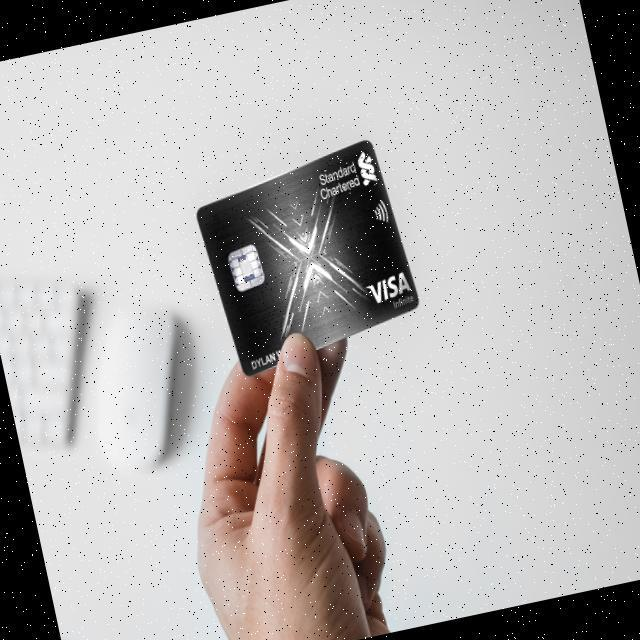Standard Chartered: (314, 149, 379, 200)
